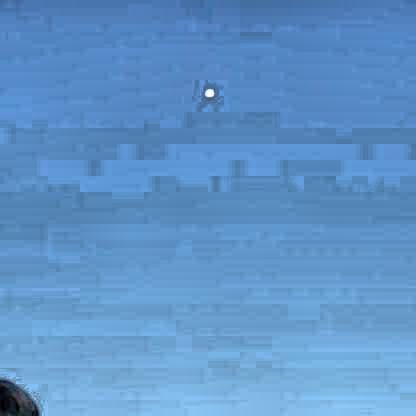golfball: (201, 84, 213, 98)
